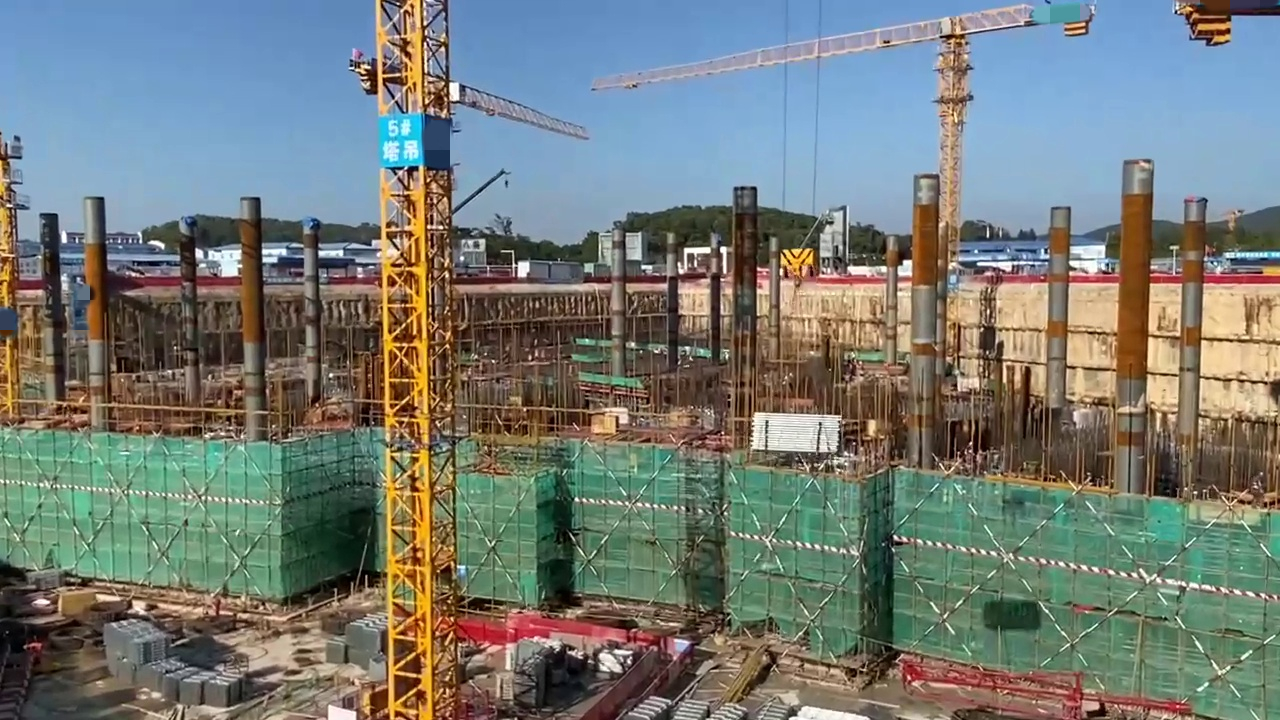fence: (513, 612, 640, 638), (465, 608, 513, 648)
hook: (772, 248, 815, 275)
scaffold: (105, 617, 244, 702), (749, 412, 839, 452), (349, 608, 392, 673)
